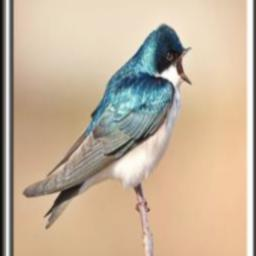Swallow: (21, 20, 196, 232)
